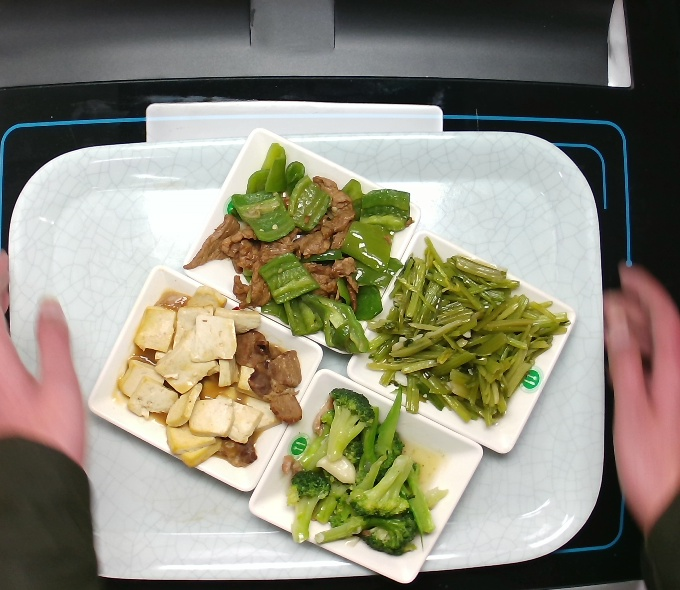wcq-DouFuRouPian: (120, 286, 303, 478)
wcq-QinCai: (385, 258, 575, 427)
wcq-QingJiaoChaoRou: (188, 149, 399, 333)
wcq-XiLanHua: (287, 387, 454, 560)
